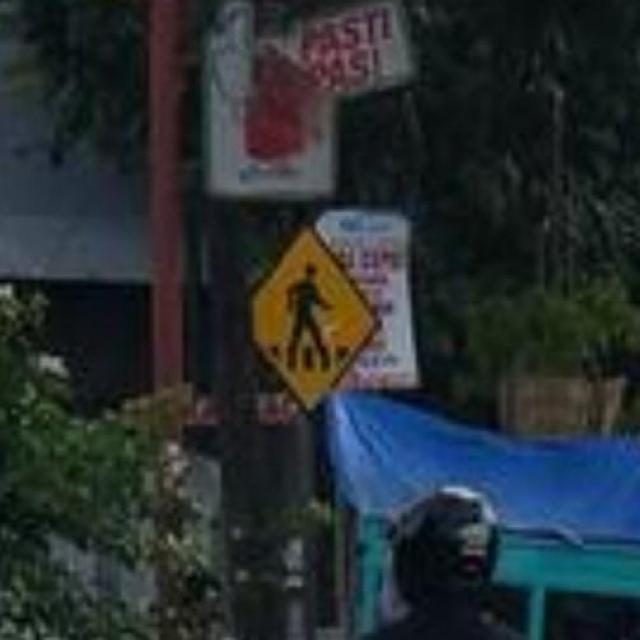traffic sign: (252, 230, 376, 384)
